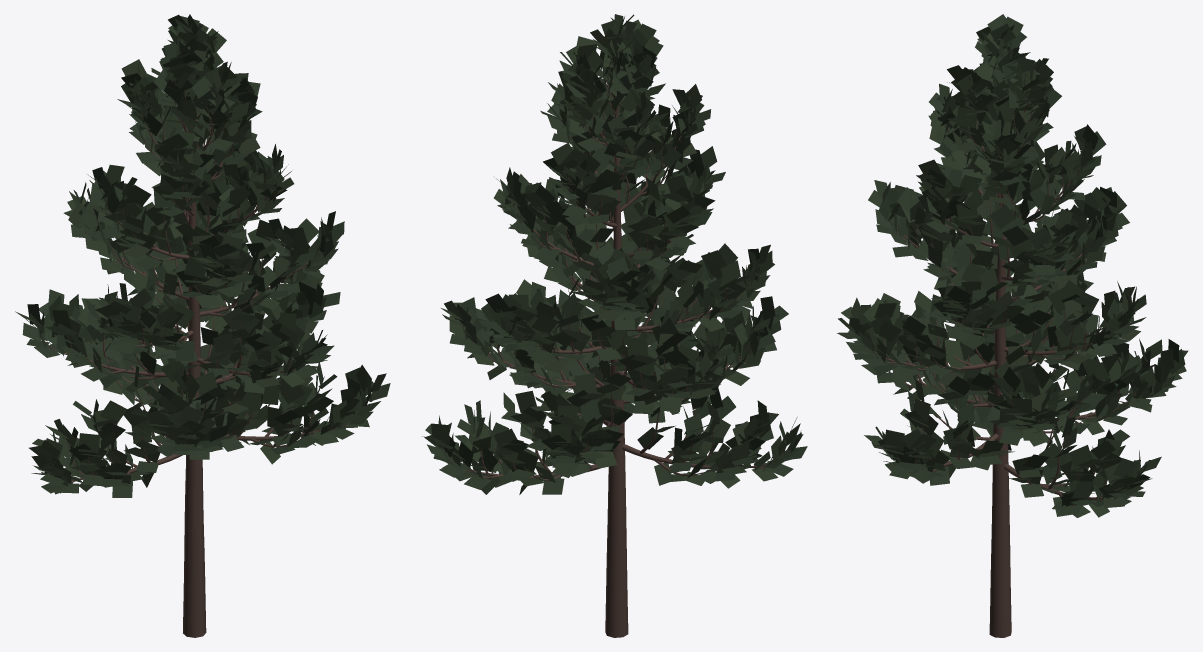
File: Arboles.glb
3 renders of one model, left to right at view 1: azimuth 30°, elevation 25°; view 2: azimuth 150°, elevation 25°; view 3: azimuth 270°, elevation 25°, orthographic. The views are drawn at different scales.
Parts seen in each view (by area): view 1: leaves, leaves.001, tree_Mesh; view 2: leaves, leaves.001, tree_Mesh; view 3: leaves, leaves.001, tree_Mesh.
Boxes of the visible parts, left/top/right/bottom form: leaves: left=15, top=14, right=390, bottom=497; leaves.001: left=21, top=15, right=388, bottom=497; tree_Mesh: left=37, top=41, right=372, bottom=637; leaves: left=421, top=14, right=807, bottom=494; leaves.001: left=427, top=14, right=805, bottom=494; tree_Mesh: left=443, top=33, right=784, bottom=637; leaves: left=837, top=14, right=1188, bottom=517; leaves.001: left=838, top=27, right=1184, bottom=517; tree_Mesh: left=857, top=42, right=1154, bottom=637.
Bounding box in the file's own units: 5.02 × 9.02 × 4.72.
